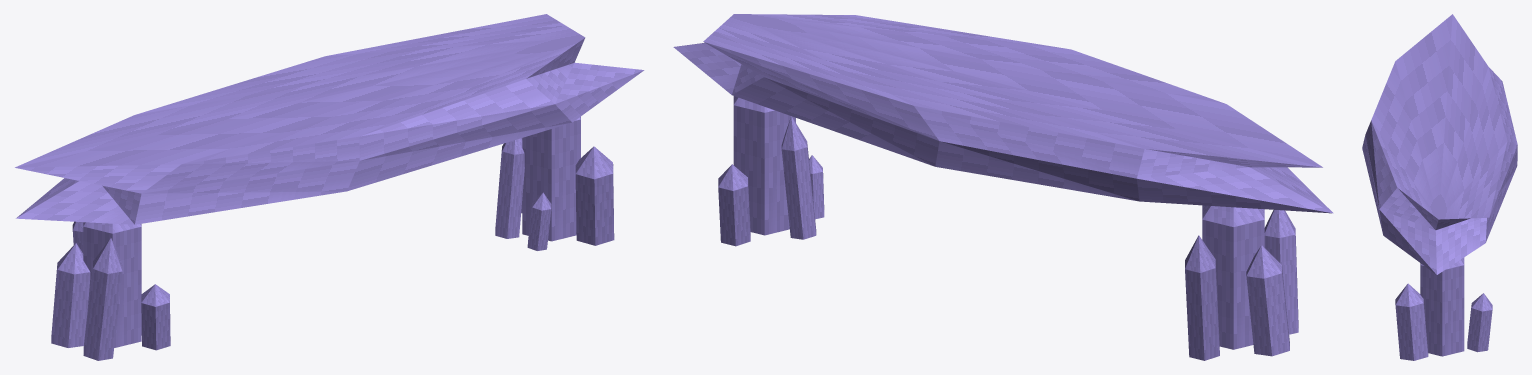
File: cave-and-crystal-networks-crystal-bridge-27196da8.glb
The picture shows the model from 3 angles, left to right: view 1: azimuth 30°, elevation 25°; view 2: azimuth 150°, elevation 25°; view 3: azimuth 270°, elevation 25°; orthographic projection. The views are drawn at different scales.
Visible parts, largest first — view 1: crystal-bridge; view 2: crystal-bridge; view 3: crystal-bridge.
Part boxes in pixels (x1,y1,x2,y2): crystal-bridge: (15,14,644,360); crystal-bridge: (673,14,1333,360); crystal-bridge: (1362,14,1517,360).
Size of the model in its own units: 4.26 by 1.21 by 1.23.
1 material, 1 textured.
